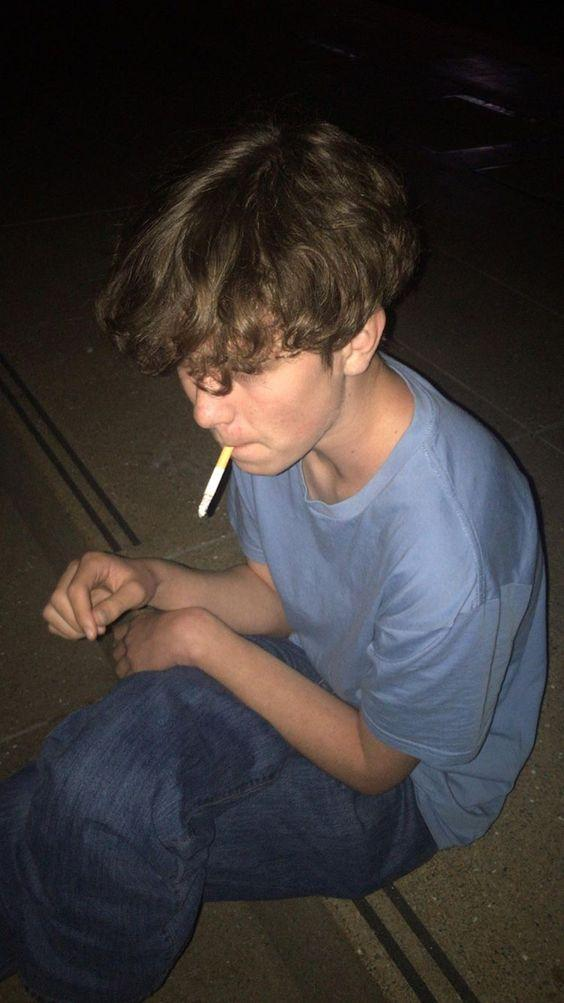cigarette: (198, 446, 235, 518)
